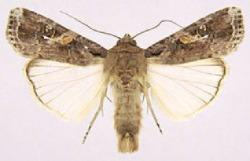army worm adult: (7, 7, 245, 152)
